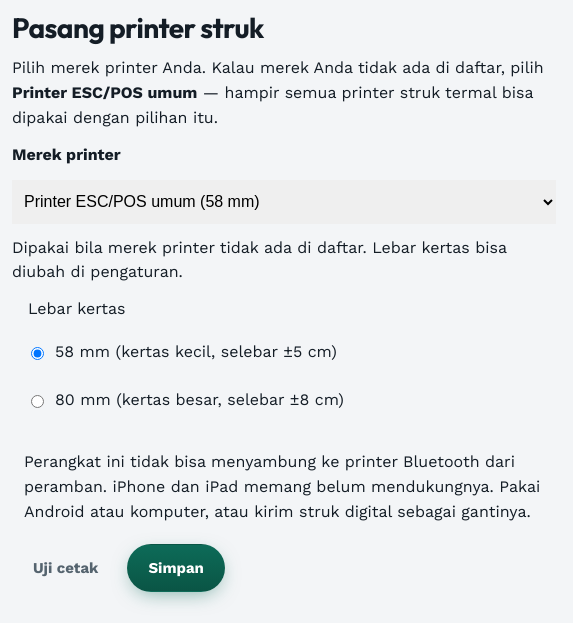
Test: PasangPrinter — lebar kertas bisa diatur pengguna › memilih printer 80 mm ikut mengubah lebar kertas
Select "Xprinter XP-N160II" in the dropdown labelled "Merek printer" at (284, 202), box [12,180,556,224]
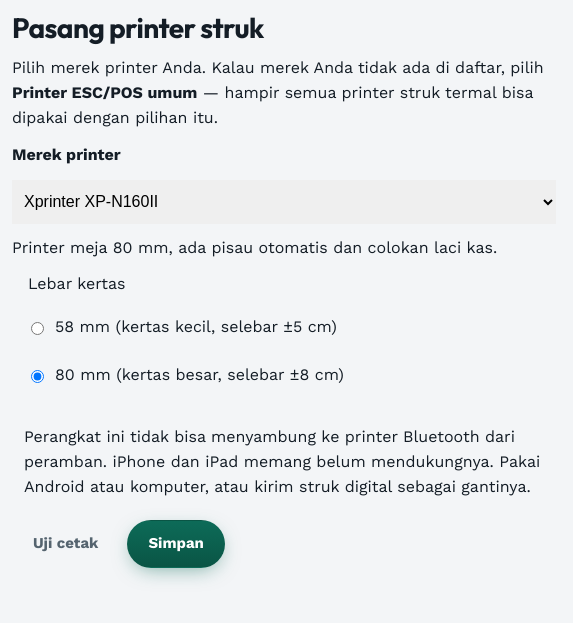
Now the radio button labelled "80 mm (kertas besar, selebar ±8 cm)" is checked, box [31,370,44,383]
